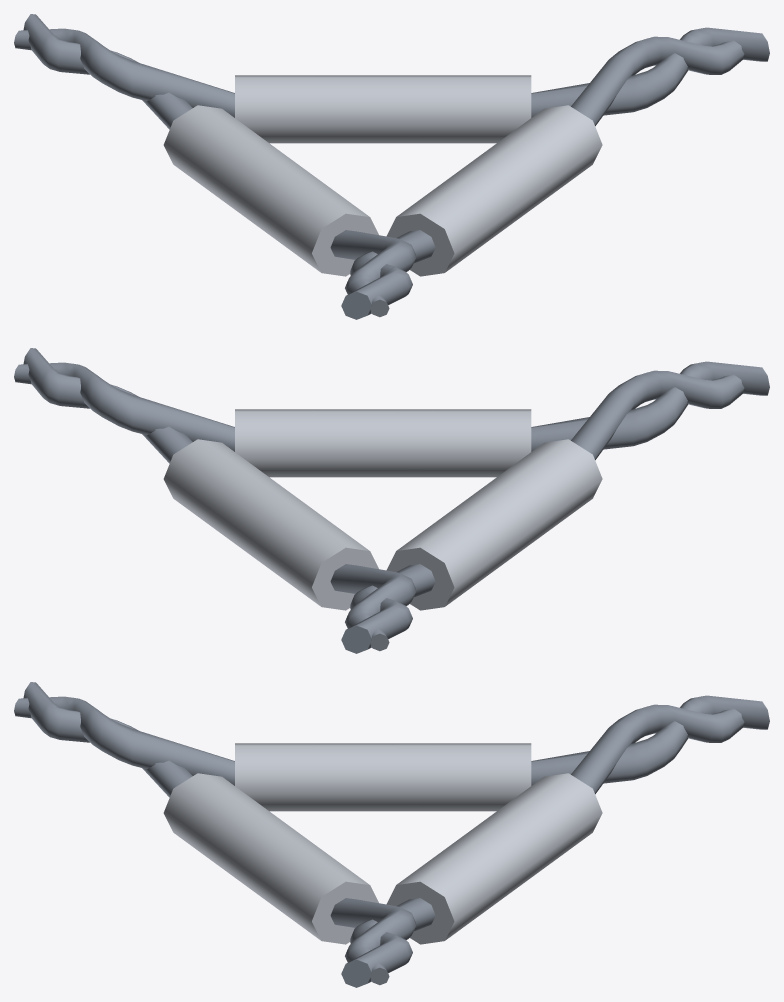
File: heating_equipment_clay_triangle_003.glb
3 views of the same model, one above another, from view 1: azimuth 30°, elevation 25°; view 2: azimuth 150°, elevation 25°; view 3: azimuth 270°, elevation 25° (orthographic).
Parts seen in each view (by area): view 1: heating_equipment_clay_triangle.003; view 2: heating_equipment_clay_triangle.003; view 3: heating_equipment_clay_triangle.003.
Boxes of the visible parts, <box> form: heating_equipment_clay_triangle.003: <box>14,14,769,319</box>; heating_equipment_clay_triangle.003: <box>14,348,769,653</box>; heating_equipment_clay_triangle.003: <box>14,682,769,987</box>.
Bounding box in the file's own units: 16.54 × 2.33 × 18.66.
Materials: 1 (1 with a texture image).
